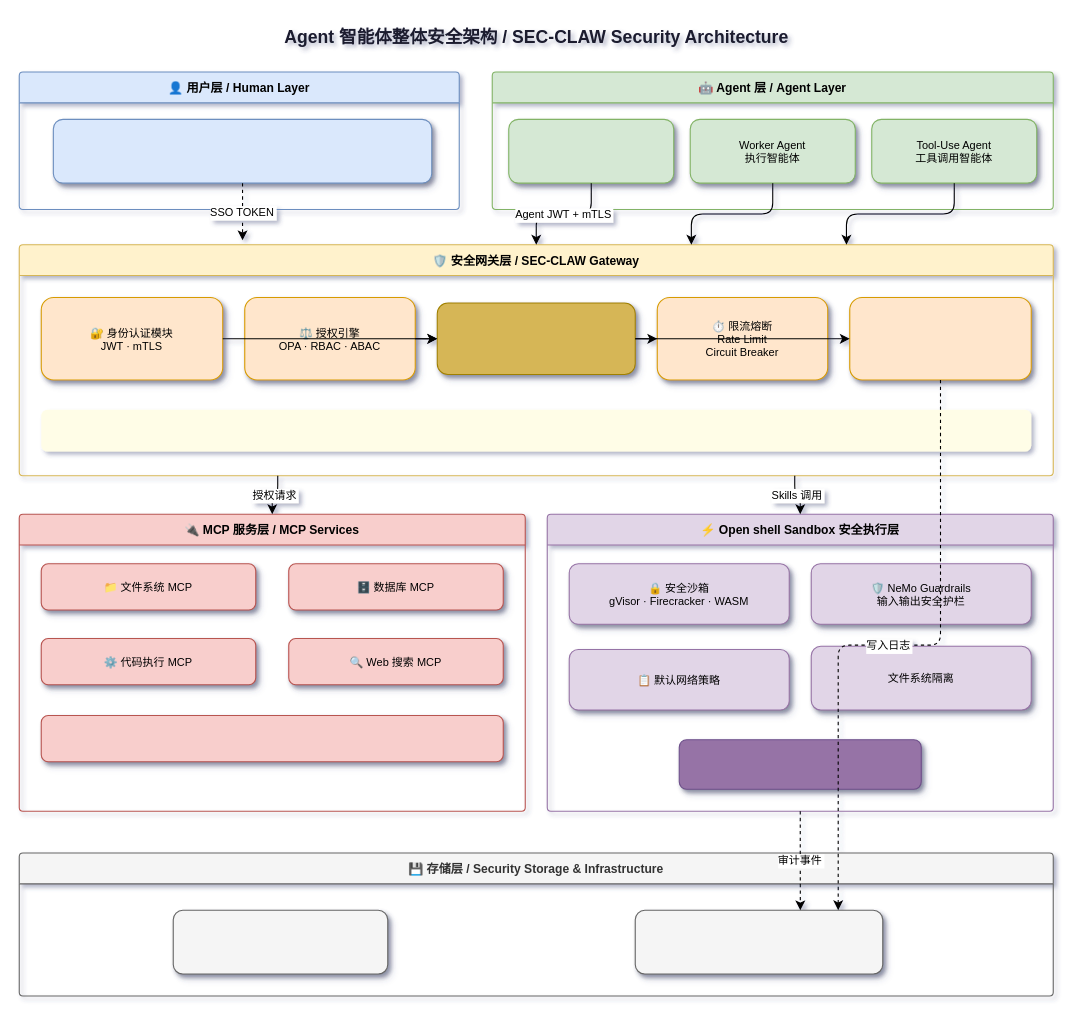
Some shapes in this 1079 by 1022 pixel diagram are drawn without their labels. The centre of each missing label's shape, as x and y in pixels:
"Open Shell Runtime Core" belongs at point 801,765.
"Orchestrator Agent 编排智能体" belongs at point 591,152.
"SEC-CLAW 安全鉴权网关" belongs at point 537,340.
"企业 SSO / IdP LDAP · SAML · OIDC" belongs at point 243,152.
"零信任原则：所有请求默认不可信 · 每次调用必须验证身份 · 最小权限授予 · 全链路持续审计" belongs at point 536,430.
"🌐 第三方 API MCP" belongs at point 273,739.
"📊 SIEM 安全日志 事件关联分析" belongs at point 759,943.
"📋 OPA Bundle 策略存储" belongs at point 281,943.
"📋 审计日志 OpenTelemetry 全链路追踪" belongs at point 941,340.
